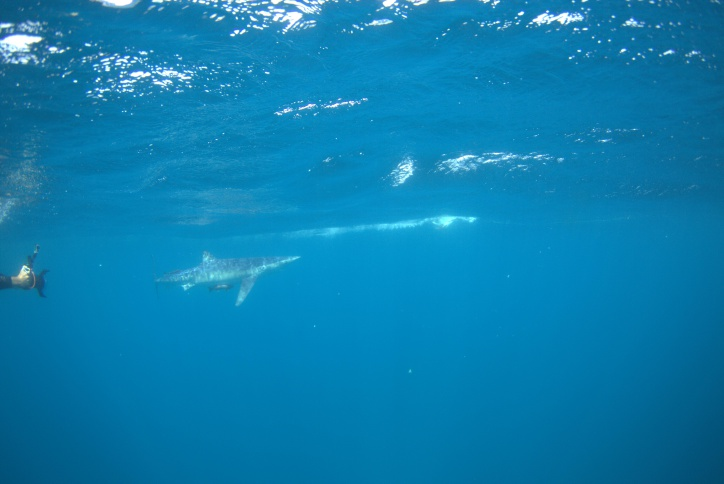Azul: (141, 244, 309, 310)
